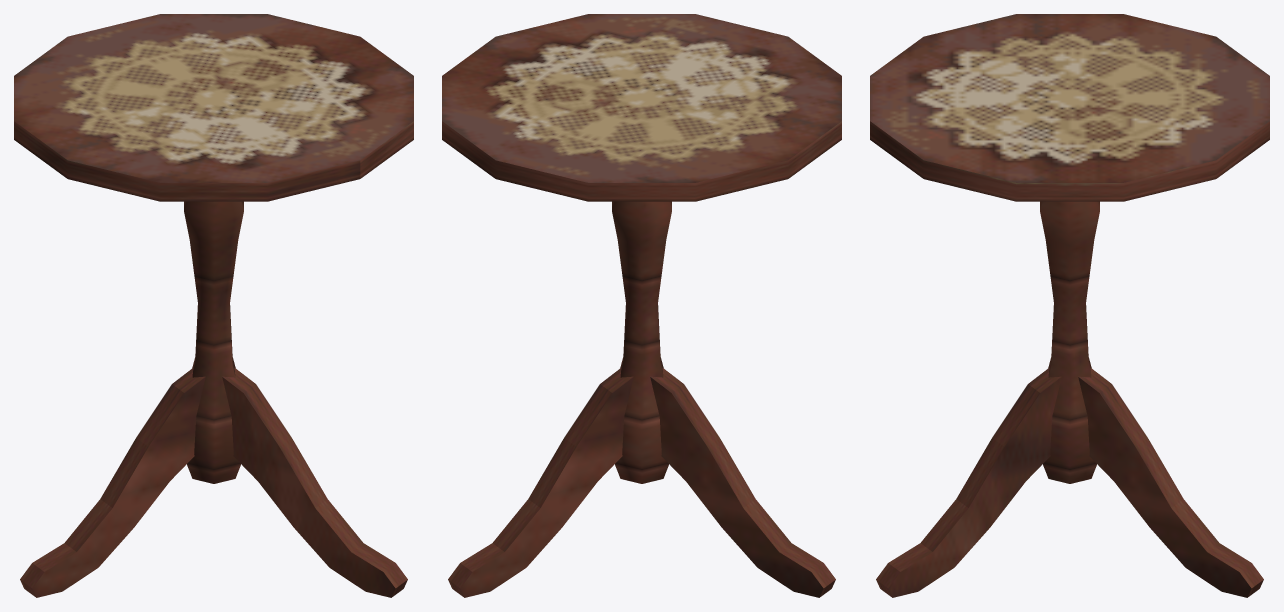
The model's file is table_side_round.obj.
3 renders of one model, left to right at view 1: azimuth 30°, elevation 25°; view 2: azimuth 150°, elevation 25°; view 3: azimuth 270°, elevation 25°, orthographic.
Parts seen in each view (by area): view 1: table_side_round; view 2: table_side_round; view 3: table_side_round.
Boxes of the visible parts, x1=… form: table_side_round: x1=14, y1=14, x2=413, y2=597; table_side_round: x1=442, y1=14, x2=841, y2=597; table_side_round: x1=870, y1=14, x2=1269, y2=597.
Bounding box in the file's own units: 0.5035 × 0.6 × 0.483.
Materials: 1 (1 with a texture image).
